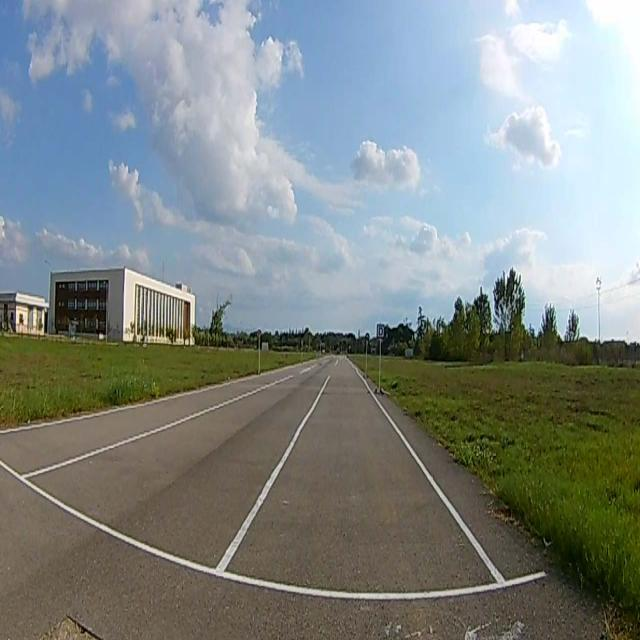durak: (377, 323, 385, 338)
